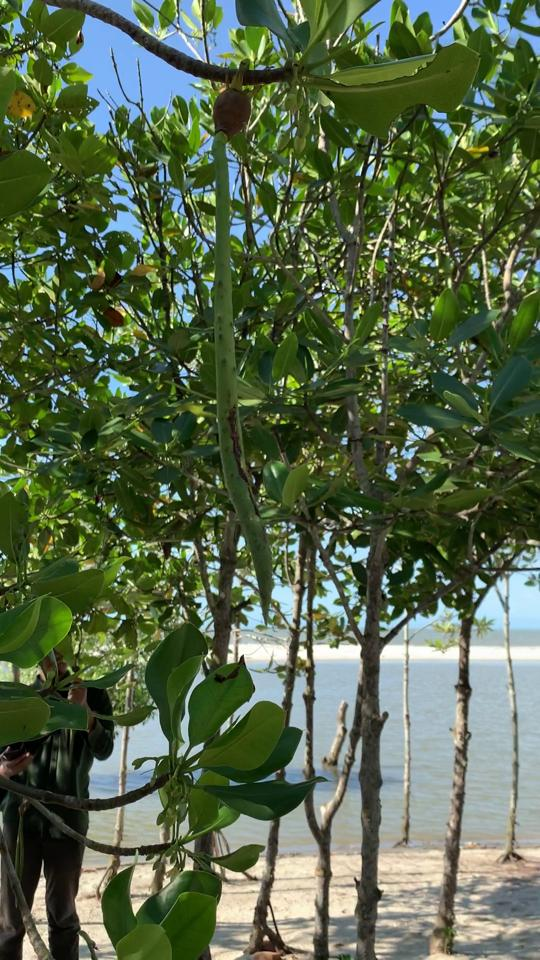setengah matang: (198, 75, 298, 629)
